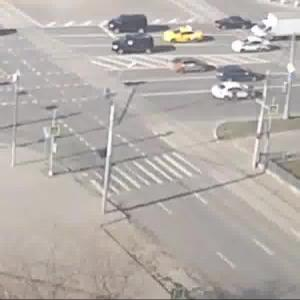car: (254, 15, 297, 46), (228, 34, 277, 60), (211, 9, 258, 35), (103, 12, 151, 32), (211, 65, 256, 86), (157, 27, 204, 47), (208, 82, 257, 101), (111, 35, 157, 54), (177, 54, 207, 79)
